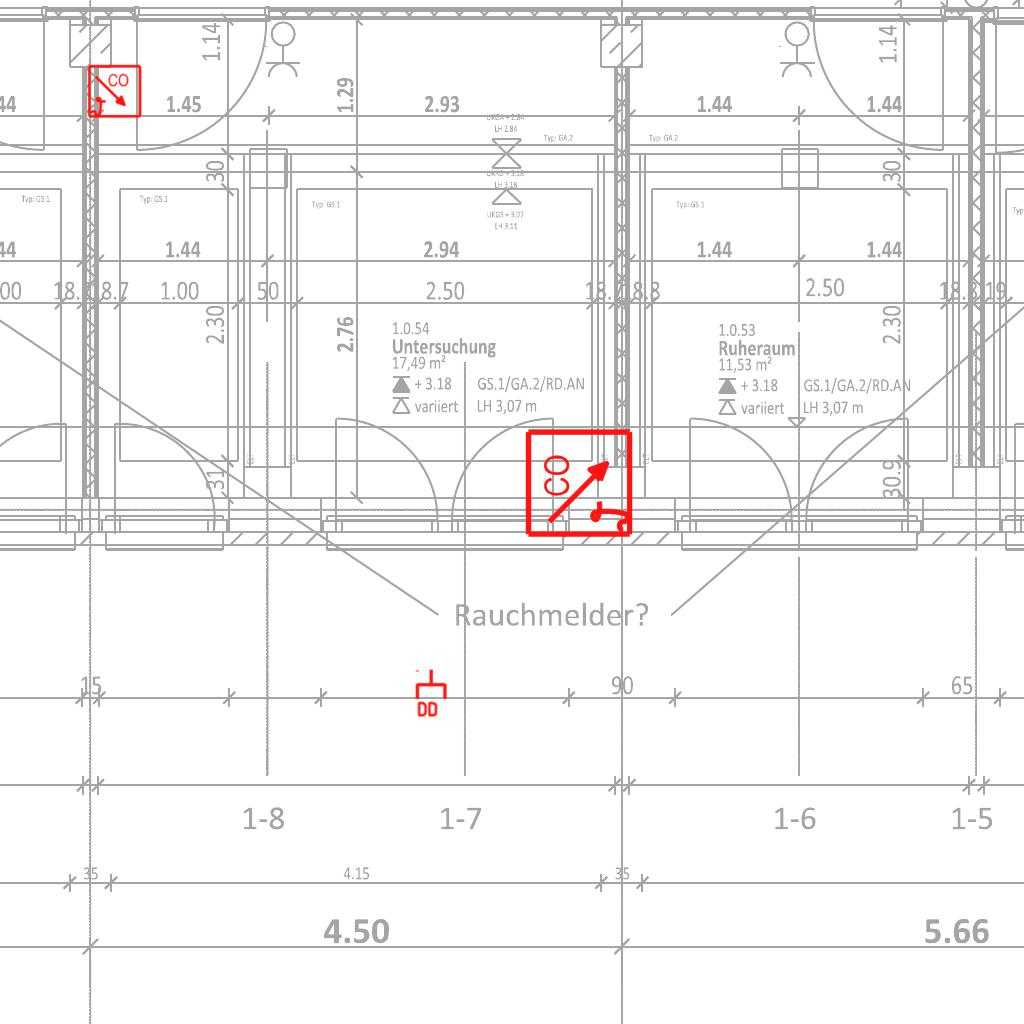Datenanschluss_zweifach: (415, 668, 449, 719)
ROA_Rauchmelder_optisch_mit_Signalgeber_(Sockelsirene): (524, 426, 637, 539), (87, 64, 143, 120)
